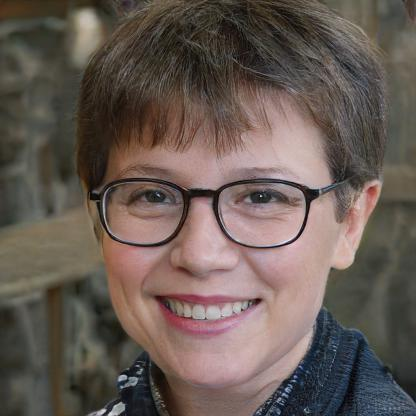glasses: (87, 172, 342, 252)
